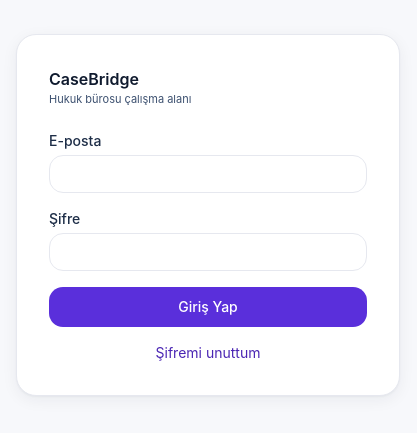
LoginView › never shows a raw error message: unexpected errors get the Turkish fallback
In the field labelled "E-posta": (208, 174) [49, 155, 367, 193], type "a@example.com"
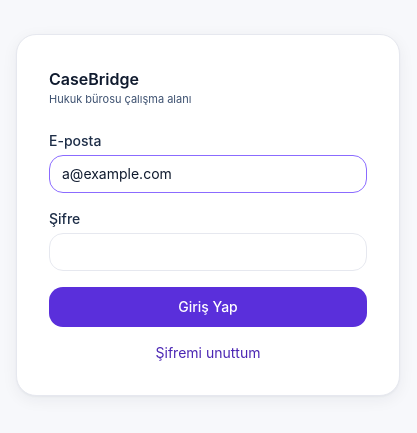
In the password field labelled "Şifre": (208, 252) [49, 233, 367, 271], type "x"
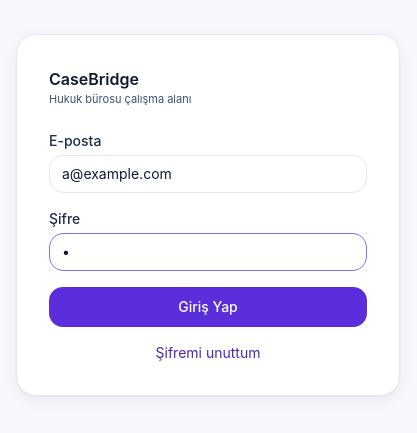
Click the button "Giriş Yap": (208, 307) [49, 287, 367, 327]
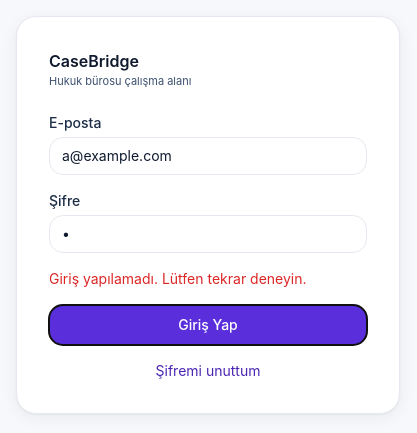
Expected: the message does not show "Failed to fetch", [49, 270, 307, 287]
Expected: the message reads "Giriş yapılamadı. Lütfen tekrar deneyin.", [49, 270, 307, 287]
